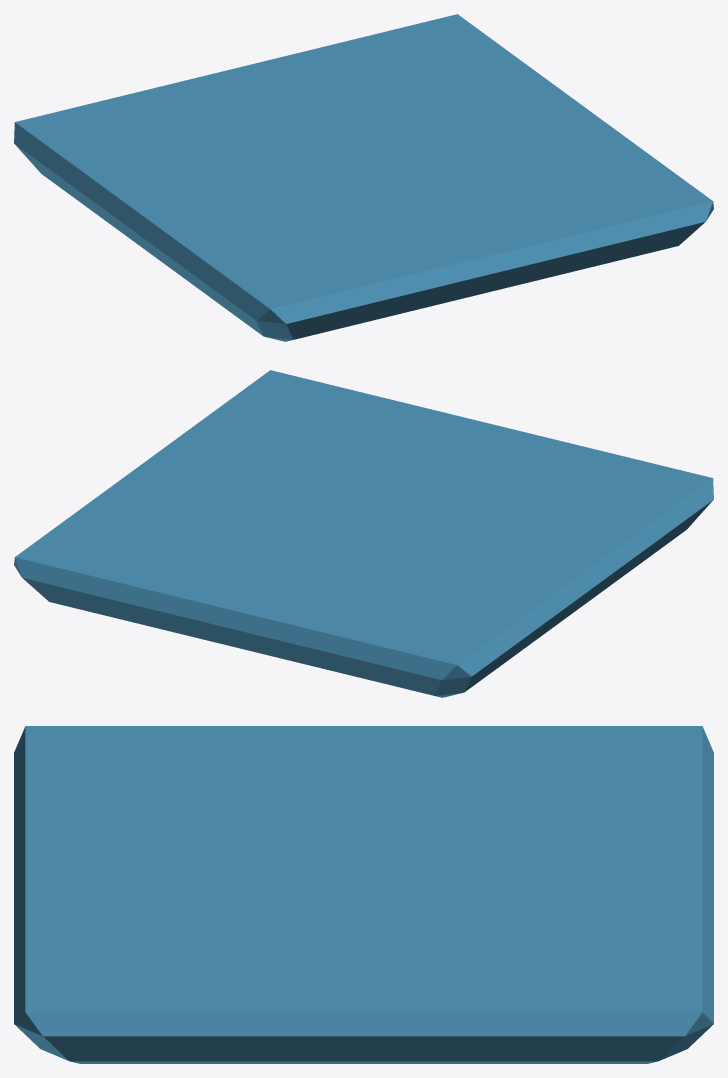
The model's file is FlatPlatform.glb.
3 views of the same model, one above another, from view 1: azimuth 30°, elevation 25°; view 2: azimuth 150°, elevation 25°; view 3: azimuth 270°, elevation 25° (orthographic). The views are drawn at different scales.
Visible parts, largest first — view 1: Cube.002; view 2: Cube.002; view 3: Cube.002.
Part boxes in pixels (x1,y1,x2,y2): Cube.002: (14, 14, 713, 341); Cube.002: (14, 370, 713, 697); Cube.002: (14, 726, 713, 1063).
Size of the model in its own units: 19.24 by 2.26 by 19.24.
1 material, 1 textured.
